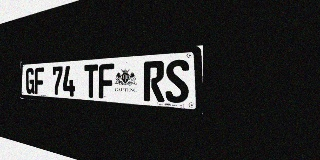4: (63, 65, 75, 97)
7: (52, 66, 63, 96)
F: (99, 63, 114, 99), (35, 67, 44, 95)
G: (26, 68, 34, 94)
R: (144, 60, 164, 102)
S: (165, 59, 189, 104)
T: (84, 64, 98, 98)
